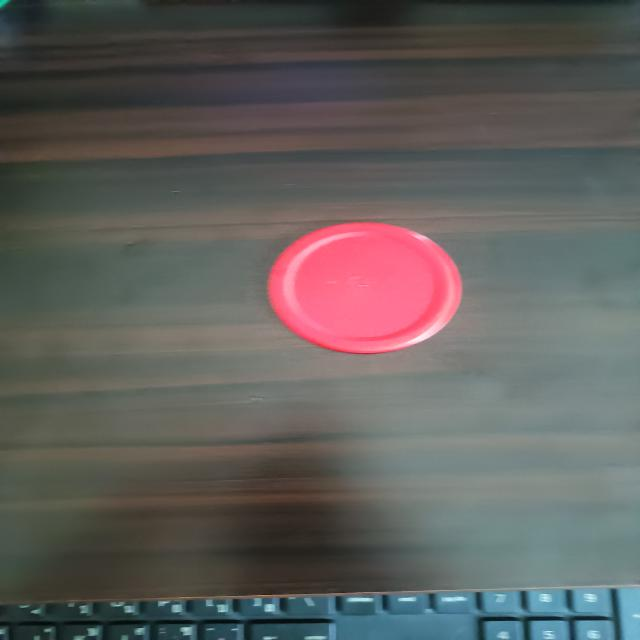chip: (263, 220, 464, 358)
